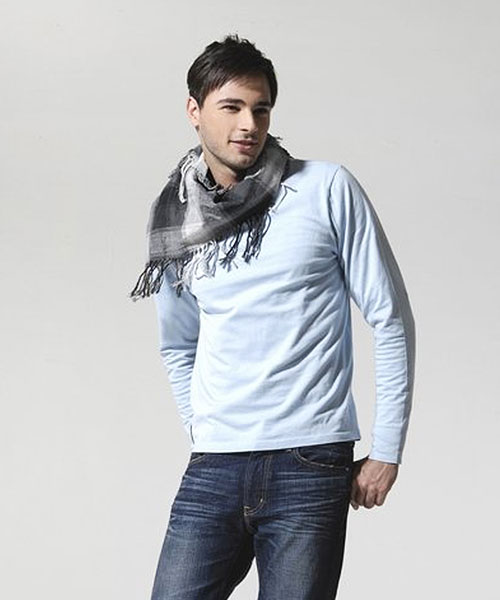NOTSAFE: (173, 32, 356, 449)
